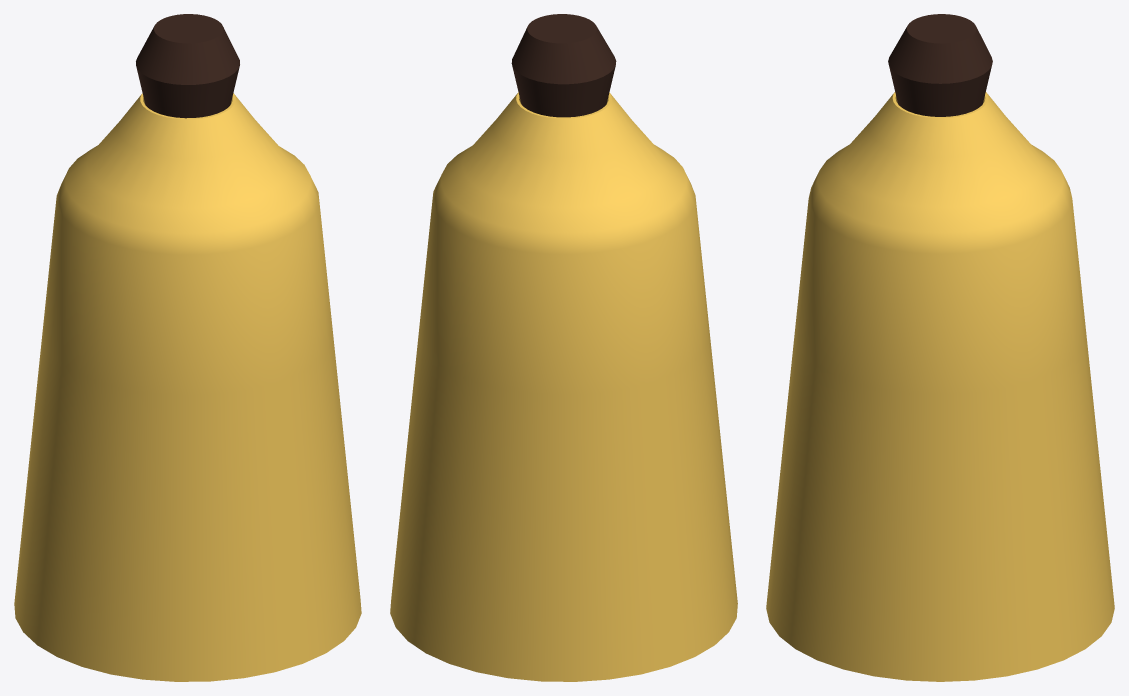
Rendered from Bottle Oil no Shape.fbx.
3 renders of one model, left to right at view 1: azimuth 30°, elevation 25°; view 2: azimuth 150°, elevation 25°; view 3: azimuth 270°, elevation 25°, orthographic.
Parts seen in each view (by area): view 1: Cylinder.001, Cylinder.002; view 2: Cylinder.001, Cylinder.002; view 3: Cylinder.001, Cylinder.002.
Boxes of the visible parts, x1,y1,x2,y2 form: Cylinder.001: (14, 93, 361, 681); Cylinder.002: (136, 14, 239, 118); Cylinder.001: (390, 92, 737, 681); Cylinder.002: (511, 14, 616, 117); Cylinder.001: (766, 92, 1114, 681); Cylinder.002: (888, 14, 992, 116).
Bounding box in the file's own units: 200 × 367 × 200.
